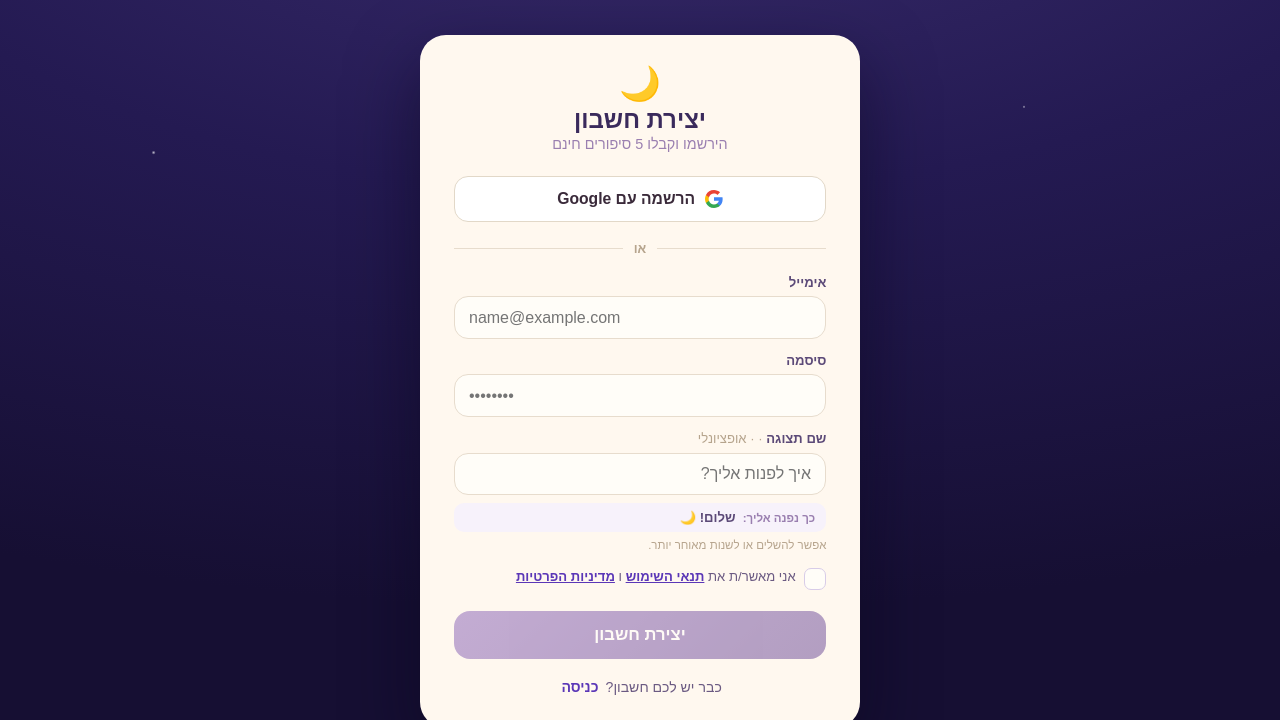
it: Auth page — register mode (default) › toggles to sign-in mode when the toggle link is clicked
Click the button "כניסה".
click(580, 686)  # box [558,678,602,694]
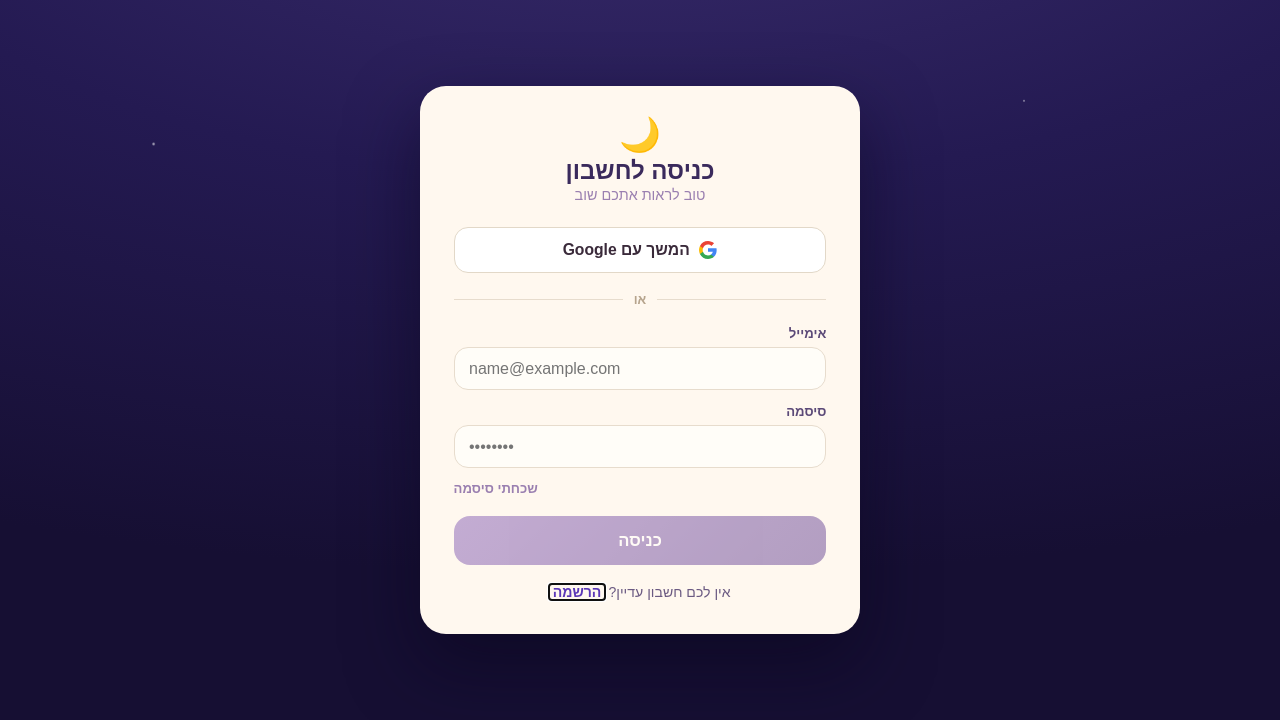
Check: the heading "כניסה לחשבון" is shown, box [566,157,714,184]
